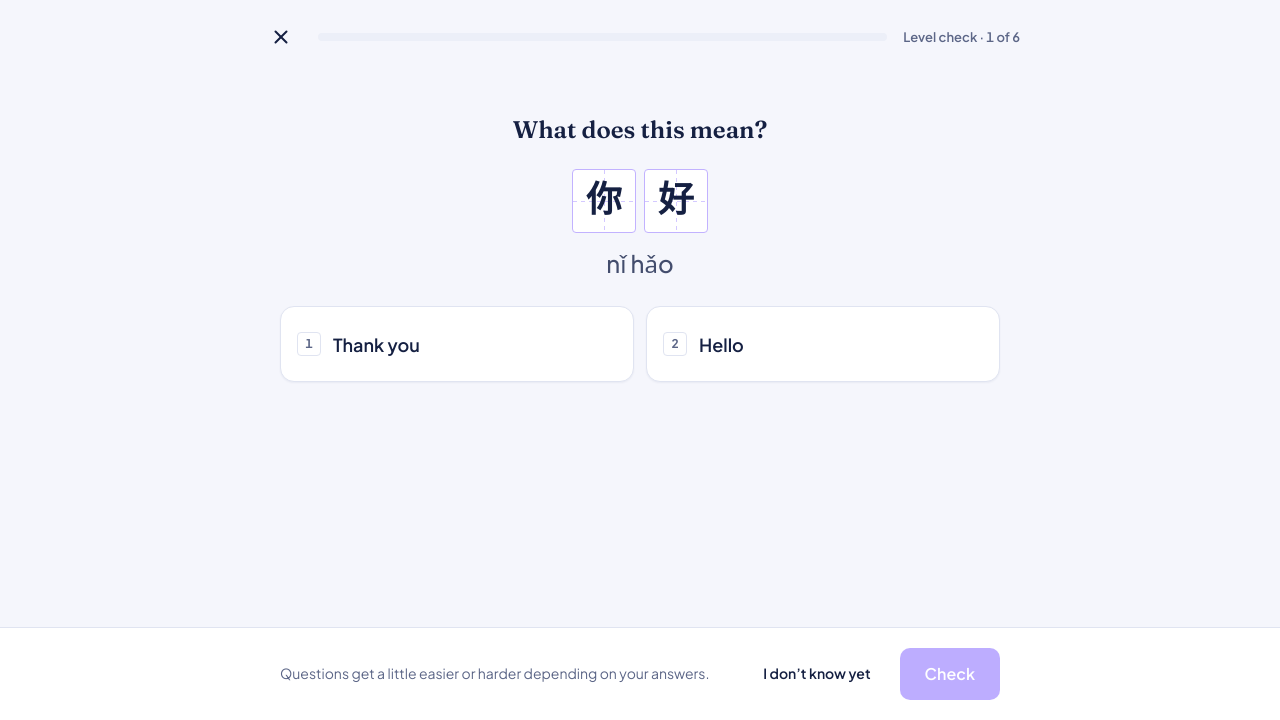
Test: StudentLevelCheckPage › says the plan was rebuilt when the level changed
Step 1. Click the button with test id "skip" → point(817, 674), box [742,648,892,700]
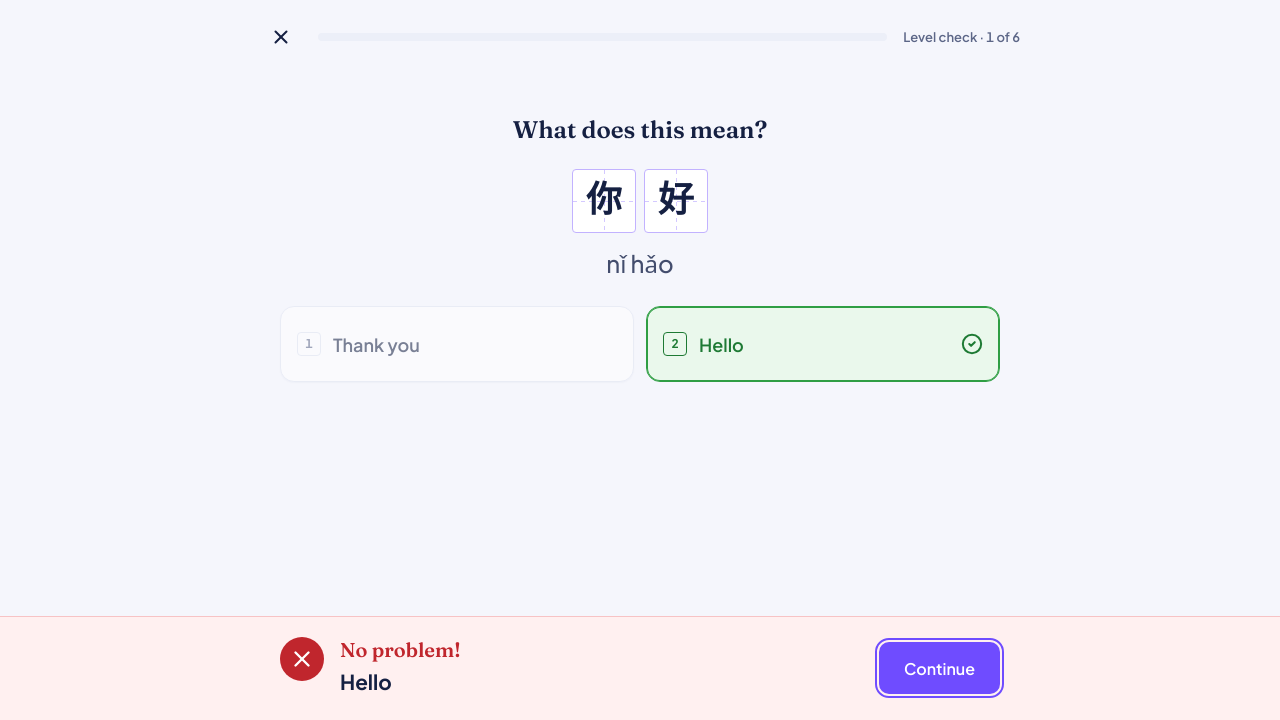
Now the element with test id "check-bar" shows "No problem!", box [340,637,461,662]
Step 2. Click the button with test id "continue" → point(939, 668), box [879,642,1000,694]
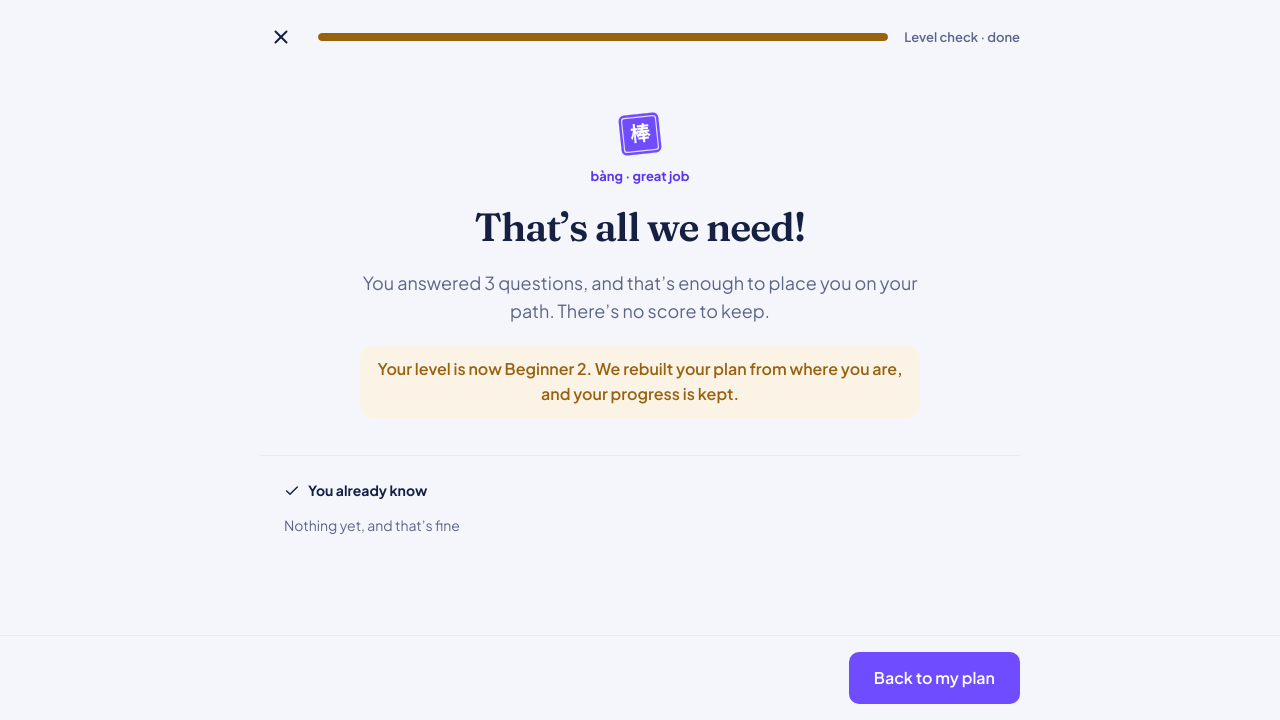
Now the text with test id "retake-outcome" shows "Your level is now Beginner 2.", box [378,358,902,404]
